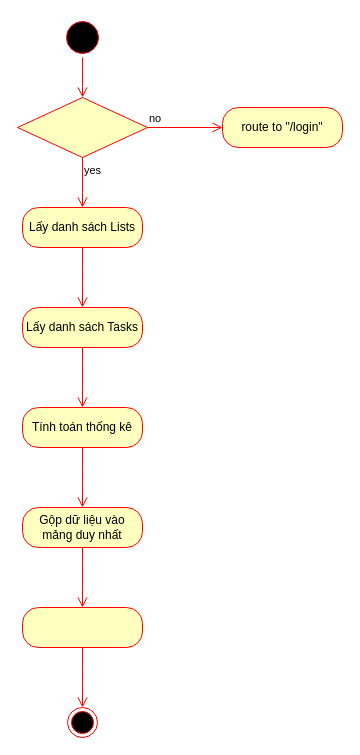
Some shapes in this 360 by 755 pixel diagram are drawn without their labels. Each missing label, with the centre of its shape:
"isLogined?" belongs at point 82,127.
"Render trang chủ" belongs at point 82,627.
